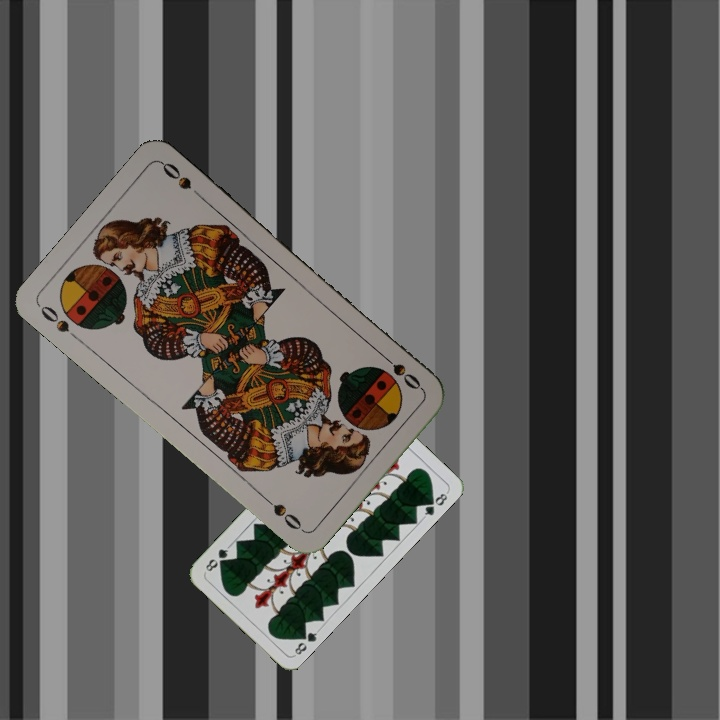G8: (290, 626, 322, 658)
SO: (376, 349, 425, 393), (36, 301, 84, 345)
